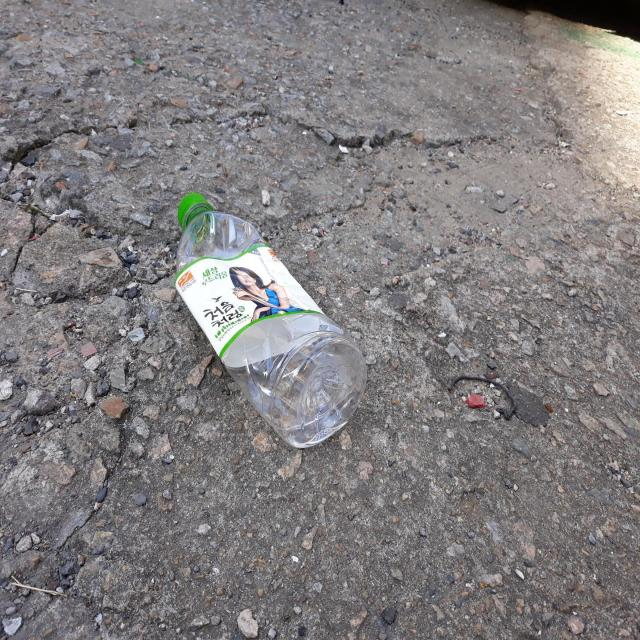plastic: (175, 192, 367, 448)
